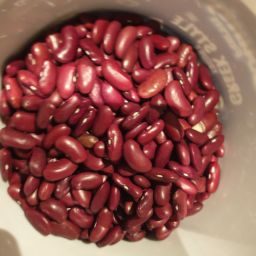Pinto Beans (kidney beans): (8, 17, 239, 243), (33, 73, 157, 195)
